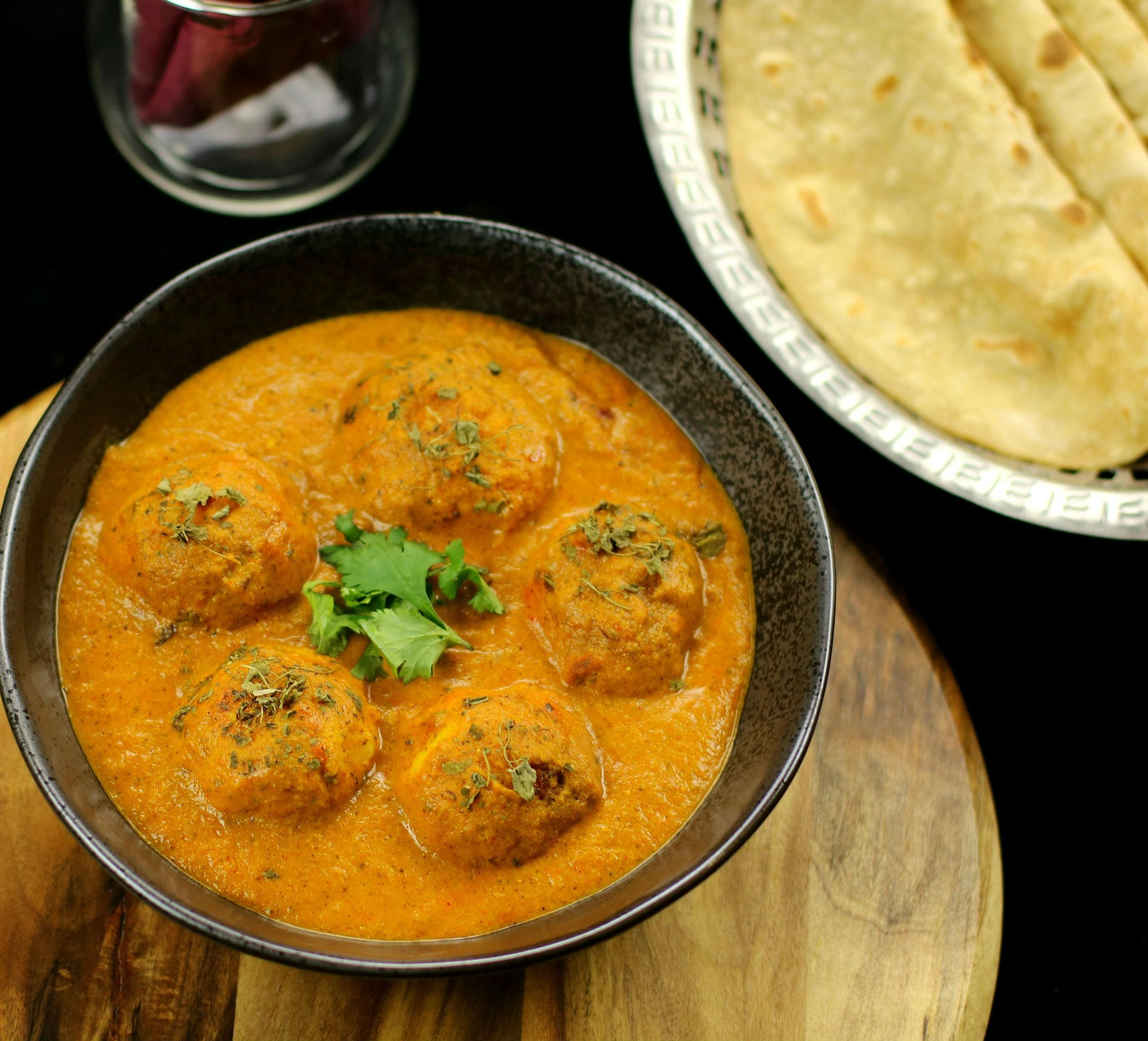DumAloo: (53, 300, 760, 939)
